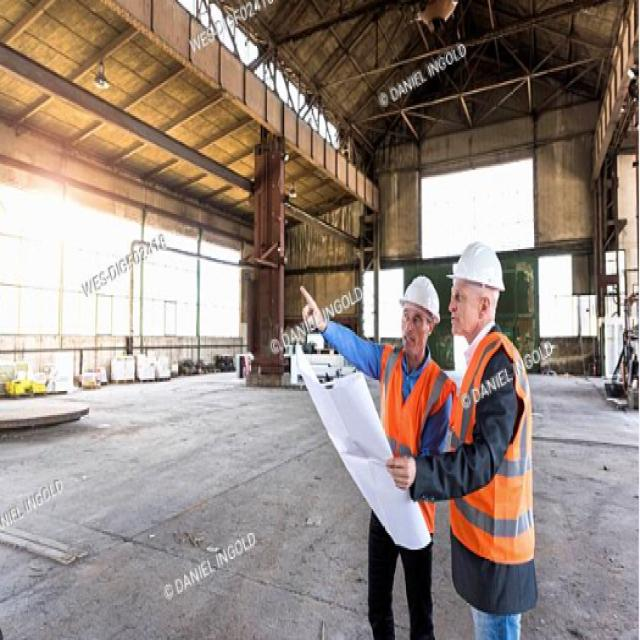helmet: (448, 235, 506, 330), (393, 270, 442, 355)
vest: (445, 326, 542, 568), (377, 331, 460, 548)
